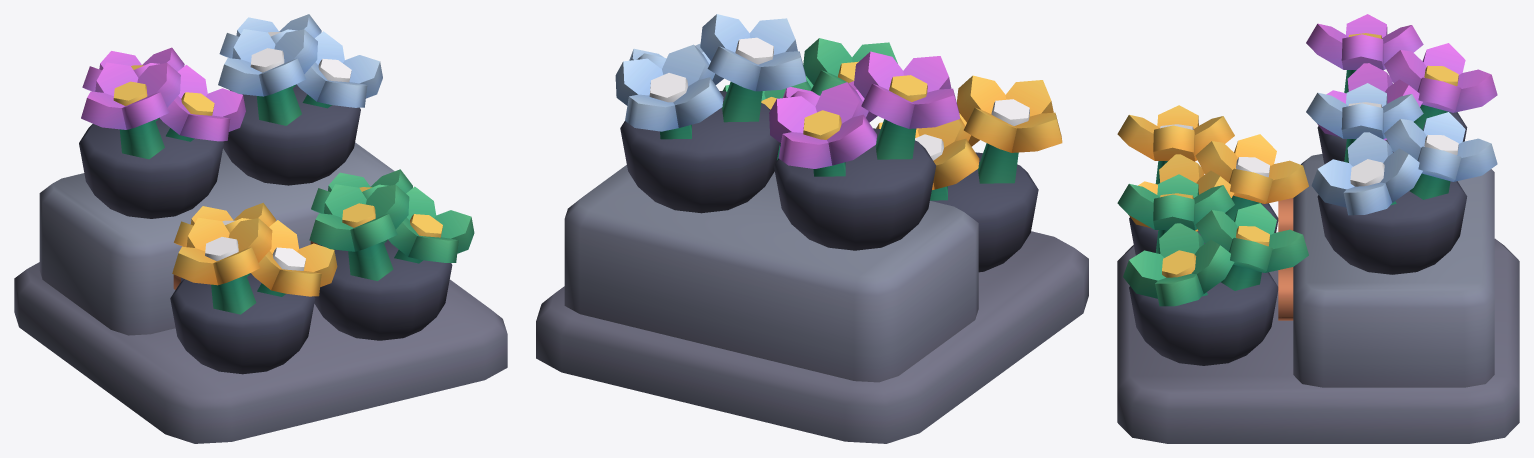
The model's file is display-flowers.glb.
The picture shows the model from 3 angles, left to right: view 1: azimuth 30°, elevation 25°; view 2: azimuth 150°, elevation 25°; view 3: azimuth 270°, elevation 25°; orthographic projection. The views are drawn at different scales.
Visible parts, largest first — view 1: flower (×4), display-flowers; view 2: display-flowers, flower (×4); view 3: flower (×4), display-flowers.
Boxes of the visible parts, box(x1,y1,x2,y2) form: flower (×4): box(79, 14, 474, 374); display-flowers: box(14, 142, 507, 443); display-flowers: box(536, 165, 1088, 443); flower (×4): box(615, 14, 1062, 272); flower (×4): box(1117, 14, 1497, 365); display-flowers: box(1117, 154, 1519, 443).
Bounding box in the file's own units: 0.8 × 0.6321 × 0.8003.
1 material, 1 textured.
